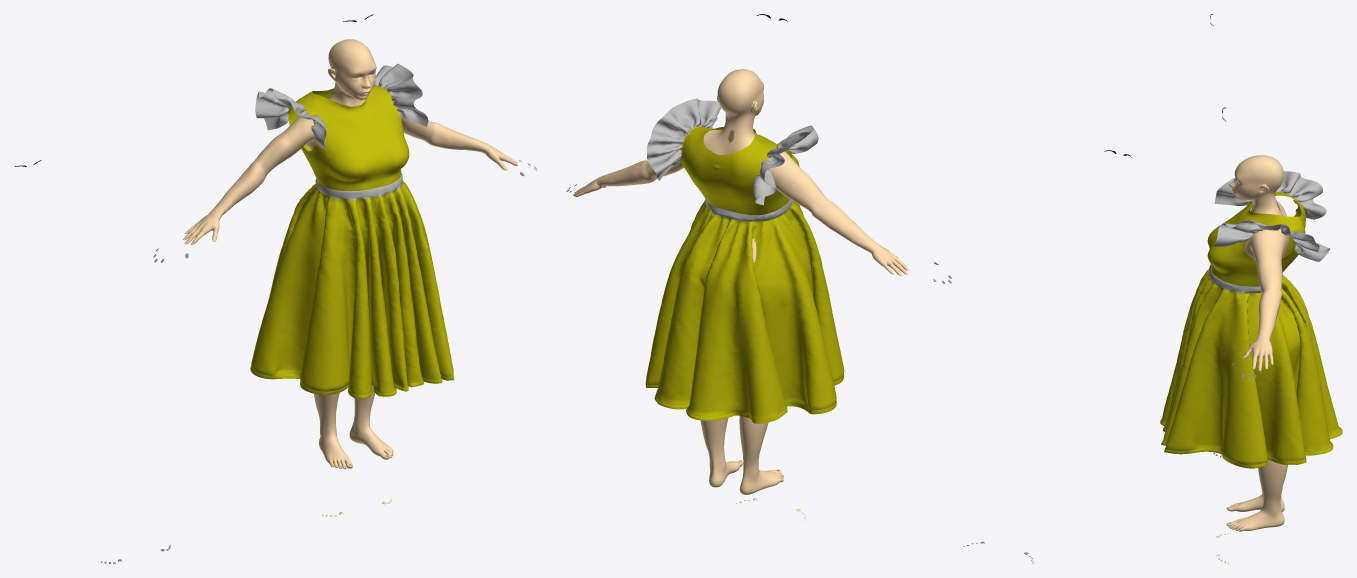
The model's file is dress10.glb.
3 renders of one model, left to right at view 1: azimuth 30°, elevation 25°; view 2: azimuth 150°, elevation 25°; view 3: azimuth 270°, elevation 25°, orthographic. The views are drawn at different scales.
Visible parts, largest first — view 1: PinkDrees#14 (OBJ), Body.003; view 2: PinkDrees#14 (OBJ), Body.003; view 3: PinkDrees#14 (OBJ), Body.003.
Part boxes in pixels (box(x1,y1,x2,y2)): PinkDrees#14 (OBJ): box(250, 63, 454, 398); Body.003: box(185, 39, 517, 469); PinkDrees#14 (OBJ): box(645, 98, 844, 423); Body.003: box(573, 69, 907, 494); PinkDrees#14 (OBJ): box(1160, 171, 1342, 468); Body.003: box(1226, 155, 1289, 531).
Size of the model in its own units: 2.23 by 1.94 by 0.7349.
